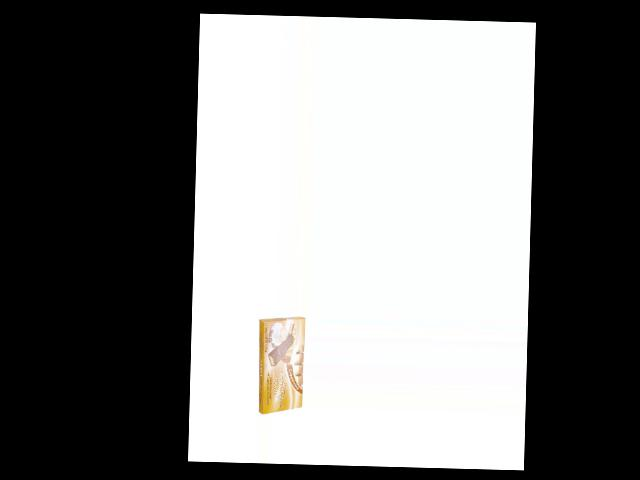chocolate: (256, 315, 306, 417)
